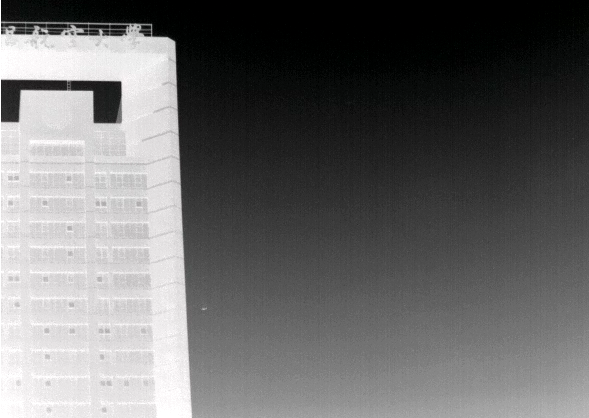dim target: (200, 307, 208, 311)
